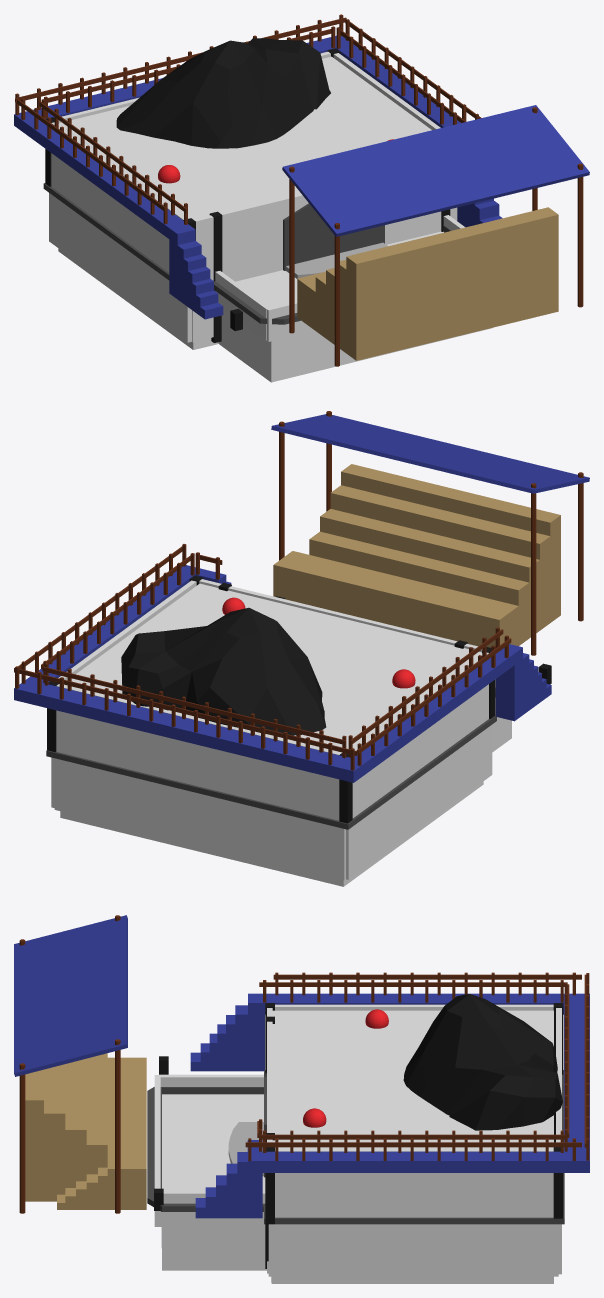
The model's file is Dolfin_Level_4.fbx.
3 views of the same model, one above another, from view 1: azimuth 30°, elevation 25°; view 2: azimuth 150°, elevation 25°; view 3: azimuth 270°, elevation 25° (orthographic). The views are drawn at different scales.
Visible parts, largest first — view 1: Water.017; view 2: Water.017; view 3: Water.017.
Part boxes in pixels (<box>): Water.017: <box>14,14,589,382</box>; Water.017: <box>14,411,589,886</box>; Water.017: <box>14,915,589,1283</box>.
Size of the model in its own units: 3404 by 2456 by 4907.
